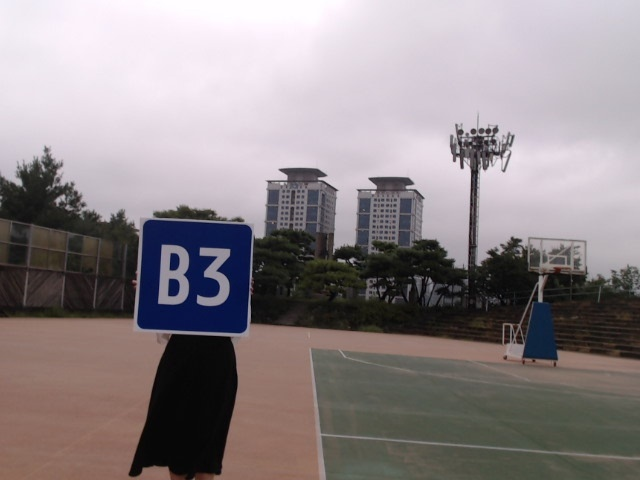delivery_b3: (137, 219, 254, 334)
